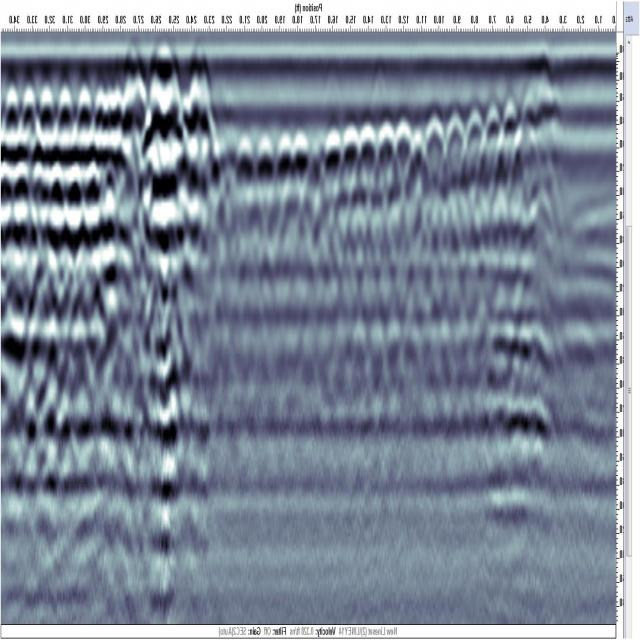hyperbola: (442, 111, 469, 189), (374, 117, 401, 190), (339, 123, 363, 193)
